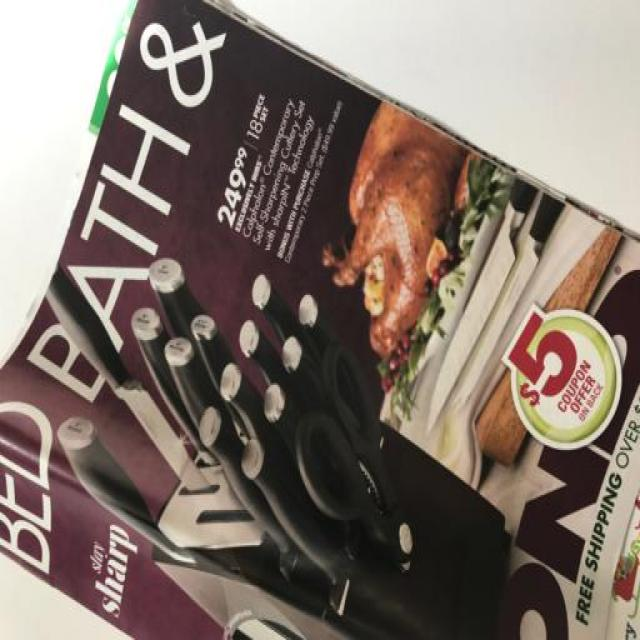paper: (1, 4, 640, 640)
